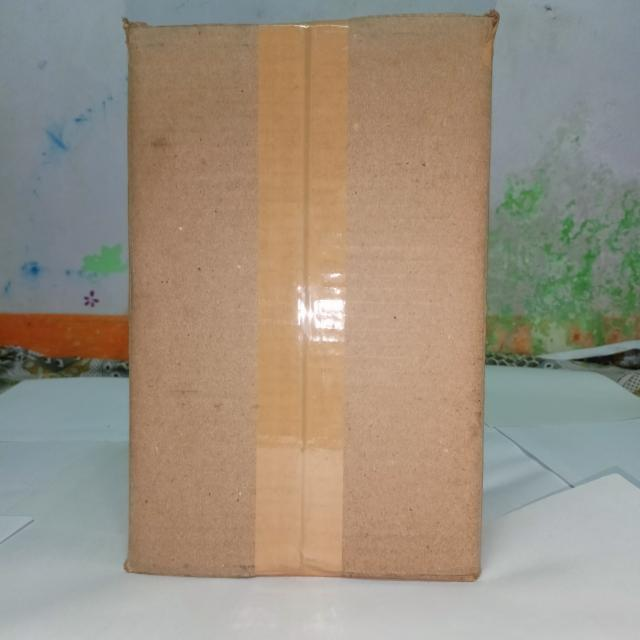box: (124, 14, 501, 586)
